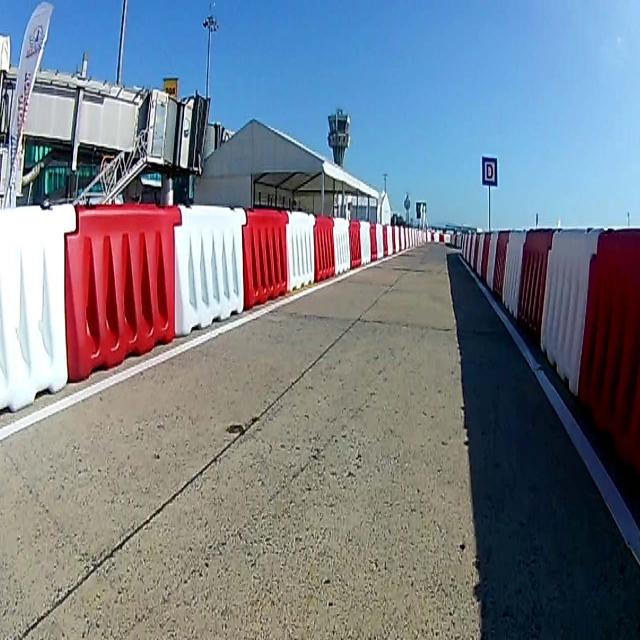durak: (482, 156, 497, 185)
